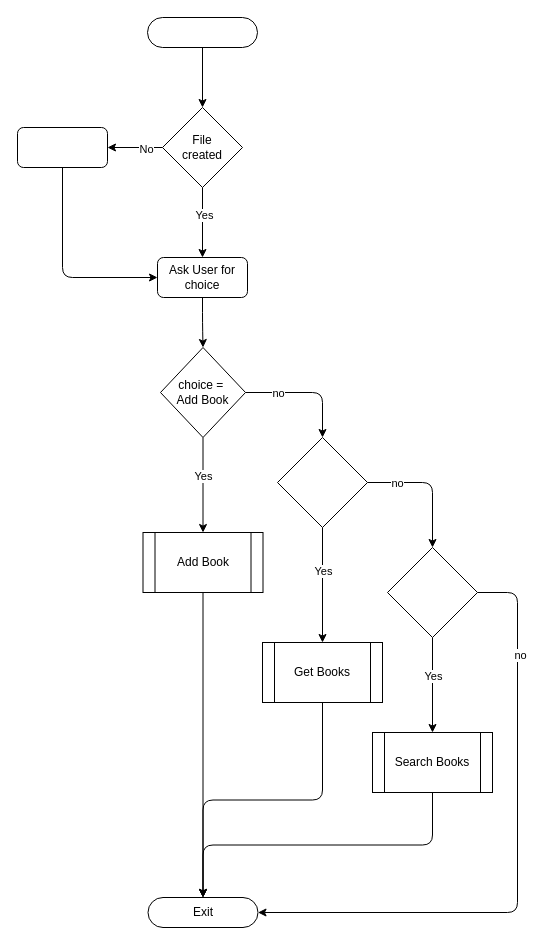
Image size: 543x945. Some labels were removed from this diagram. Each missing label, with the centre of its shape:
choice = Get Books: point 322,482
choice = Search Books: point 432,592
Create File: point 62,147
START: point 202,32
